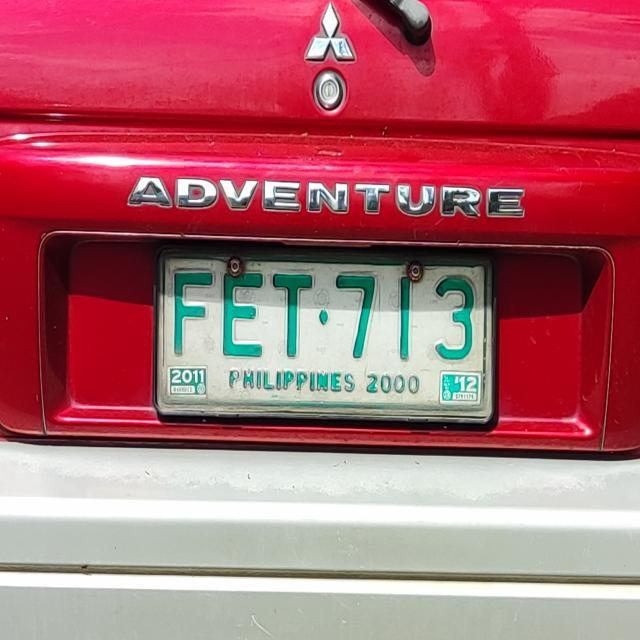LicensePlate: (146, 226, 513, 433)
